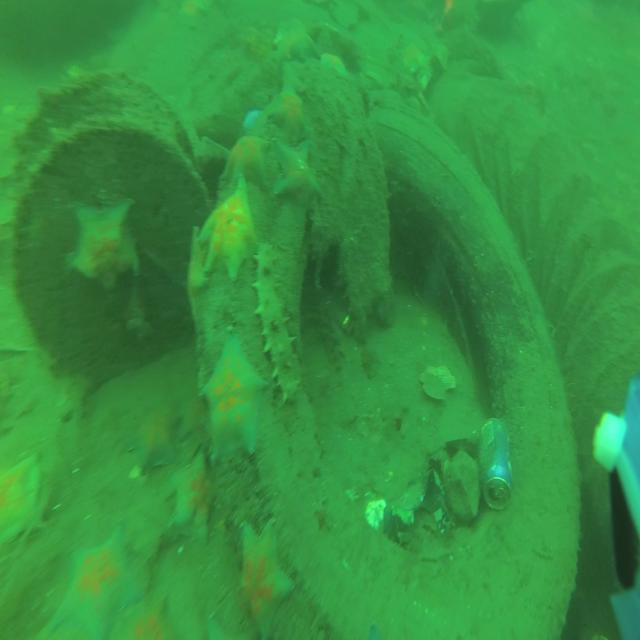echinus: (200, 156, 229, 197)
holothurian: (253, 245, 302, 402)
scallop: (419, 363, 455, 402)
starfish: (50, 526, 141, 640), (197, 327, 269, 458), (197, 173, 259, 285), (237, 519, 296, 632), (66, 200, 139, 290), (0, 448, 42, 549), (168, 452, 211, 543), (273, 134, 322, 212), (126, 405, 180, 472), (266, 87, 309, 142), (226, 136, 273, 179), (130, 600, 178, 640), (176, 0, 211, 30), (321, 52, 351, 82), (207, 617, 236, 640), (367, 624, 383, 640)
